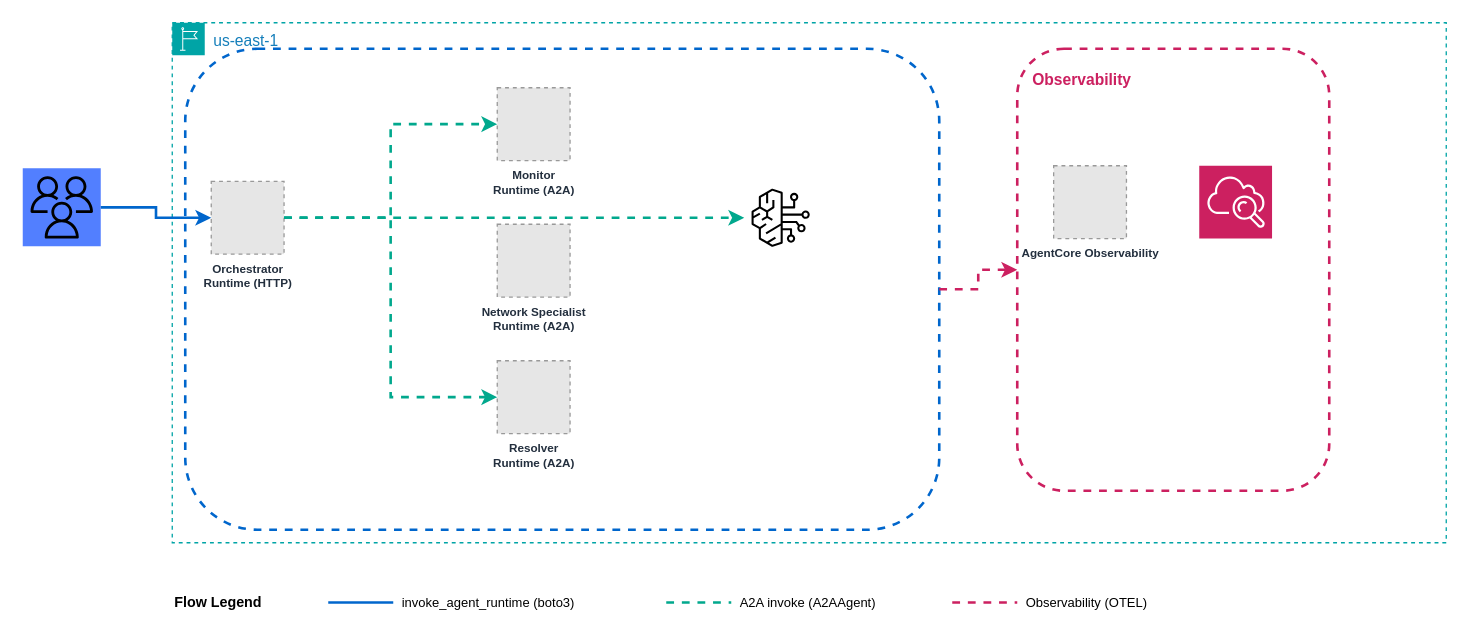
The diagram is 1469 pixels wide and 640 high, and some of its shapes have lost their labels. Grey dashed boxes stand in for pictures. The shapes that lost their labels are listed below. From the top down, each one's box as (x1, y1, x2, y2) in pixels, then its label:
(22, 168, 100, 246): User
(743, 180, 817, 254): DB Admin Runtime (A2A)
(1198, 164, 1272, 239): Amazon CloudWatch
(183, 47, 940, 530): AgentCore Runtimes
